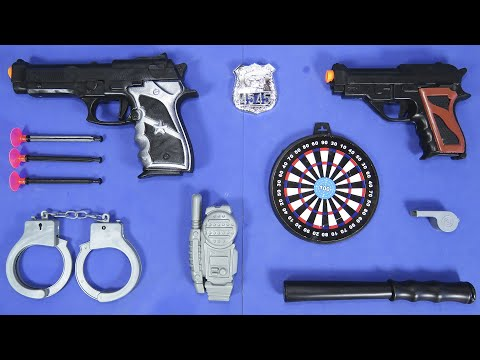Arma Falsa: (6, 52, 200, 181), (325, 59, 469, 166)
